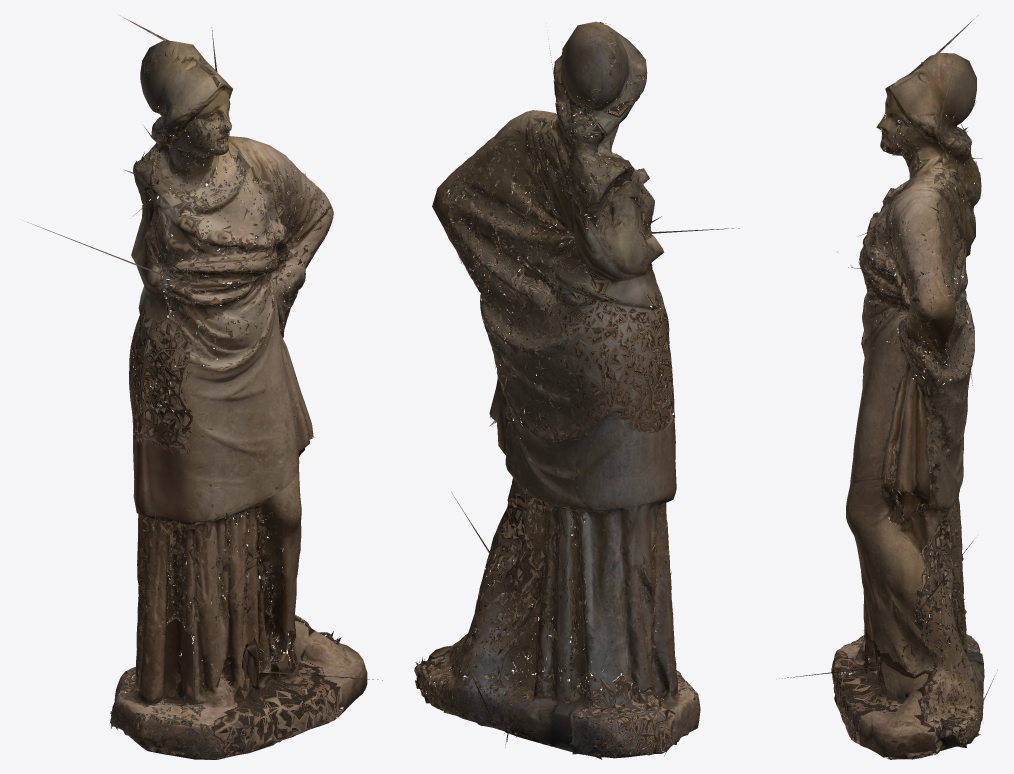
Rendered from athena-walston-lite.glb.
3 renders of one model, left to right at view 1: azimuth 30°, elevation 25°; view 2: azimuth 150°, elevation 25°; view 3: azimuth 270°, elevation 25°, orthographic. The views are drawn at different scales.
Parts seen in each view (by area): view 1: Object_4, Object_2, Object_5, Object_3, Object_6, Object_8, Object_7; view 2: Object_3, Object_5, Object_4, Object_2, Object_8, Object_7, Object_6; view 3: Object_3, Object_2, Object_7, Object_4, Object_8, Object_5, Object_6.
Part boxes in pixels (left/top/right/bottom): Object_4: left=27, top=161, right=333, bottom=511; Object_2: left=111, top=15, right=365, bottom=759; Object_5: left=136, top=245, right=382, bottom=680; Object_3: left=125, top=104, right=333, bottom=440; Object_6: left=110, top=495, right=339, bottom=728; Object_8: left=129, top=286, right=313, bottom=573; Object_7: left=110, top=445, right=367, bottom=756; Object_3: left=445, top=60, right=673, bottom=441; Object_5: left=423, top=211, right=673, bottom=726; Object_4: left=432, top=121, right=739, bottom=434; Object_2: left=414, top=21, right=700, bottom=759; Object_8: left=477, top=270, right=676, bottom=570; Object_7: left=415, top=417, right=698, bottom=756; Object_6: left=451, top=467, right=684, bottom=746; Object_3: left=865, top=103, right=982, bottom=466; Object_2: left=831, top=15, right=983, bottom=759; Object_7: left=834, top=442, right=984, bottom=759; Object_4: left=849, top=173, right=981, bottom=522; Object_8: left=846, top=295, right=973, bottom=569; Object_5: left=779, top=300, right=997, bottom=734; Object_6: left=838, top=477, right=973, bottom=743.
Bounding box in the file's own units: 8.74 × 18.52 × 5.74.
Materials: 1 (1 with a texture image).
